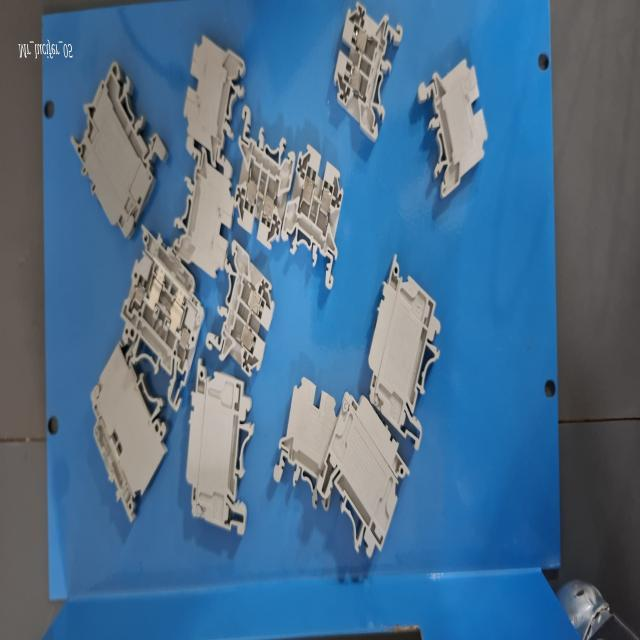Inverted: (413, 44, 489, 204), (272, 373, 344, 511), (182, 30, 248, 178), (168, 150, 242, 270)
Pass: (205, 234, 279, 382), (333, 0, 406, 145), (280, 142, 344, 294), (230, 108, 292, 256)
